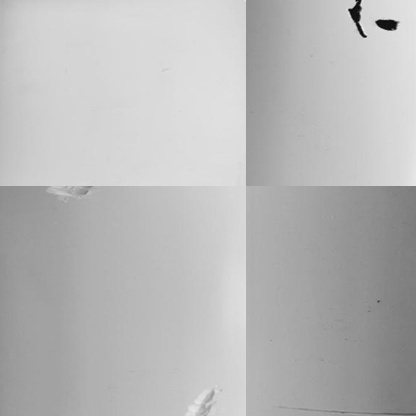kongdong: (346, 1, 370, 37), (373, 16, 401, 33)
sunshang: (45, 185, 96, 209), (184, 385, 220, 414)
